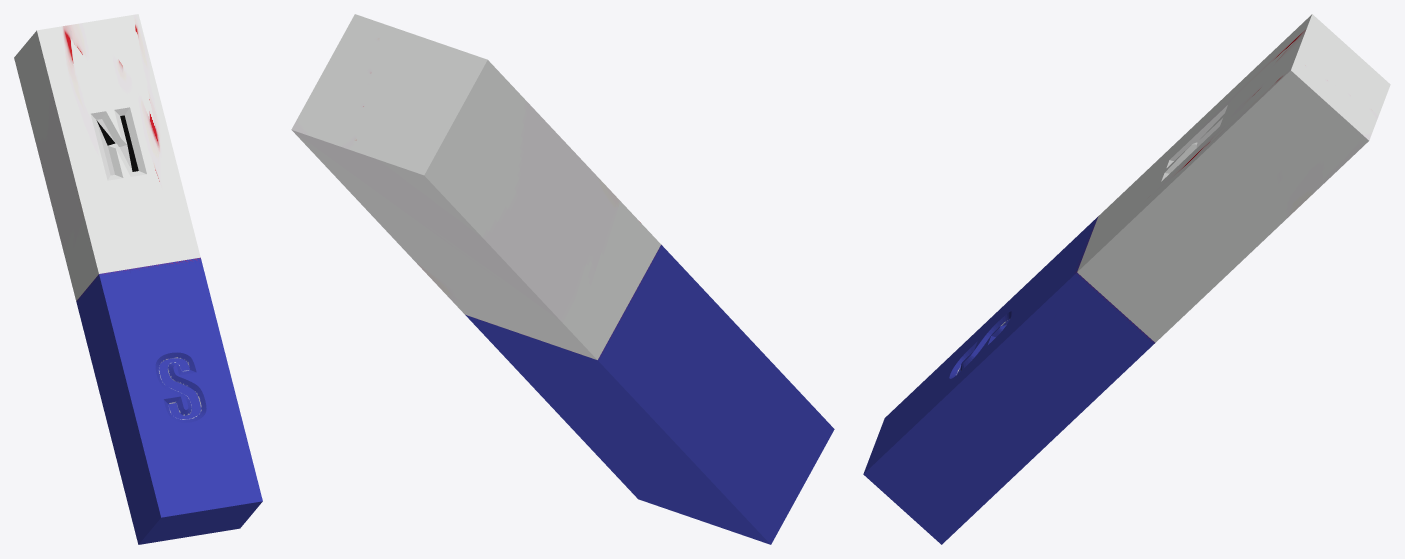
3 views of the same model, side by side, from view 1: azimuth 30°, elevation 25°; view 2: azimuth 150°, elevation 25°; view 3: azimuth 270°, elevation 25° (orthographic). The views are drawn at different scales.
Visible parts, largest first — view 1: node_id72, node_id69 (×2); view 2: node_id69, node_id72; view 3: node_id69, node_id72.
Part boxes in pixels (left/top/right/bottom): node_id72: left=76, top=257, right=262, bottom=544; node_id69 (×2): left=14, top=14, right=200, bottom=300; node_id69: left=291, top=14, right=660, bottom=359; node_id72: left=465, top=244, right=834, bottom=544; node_id69: left=1077, top=14, right=1390, bottom=342; node_id72: left=863, top=216, right=1154, bottom=544.
Size of the model in its own units: 0.0218 by 0.0558 by 0.0535.
